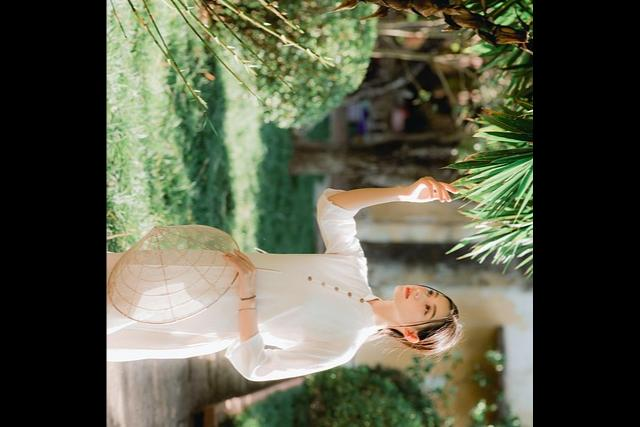Non_Gorille: (106, 153, 506, 427)
